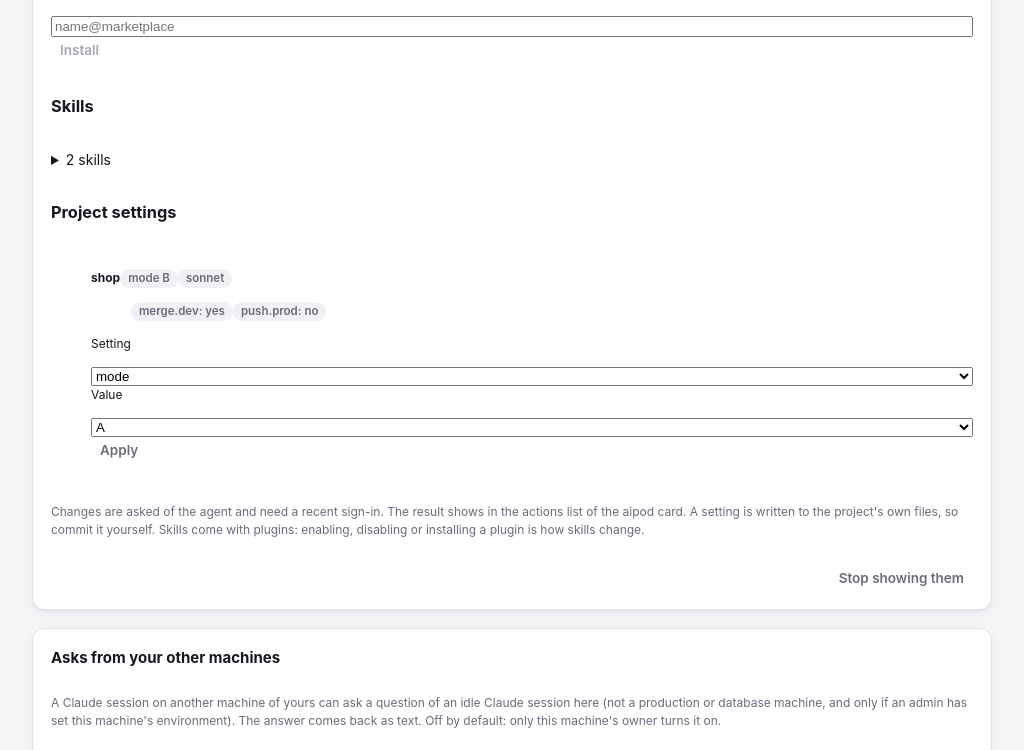
Test: the Claude inventory card on the machine page › asks for a project setting with the project, the name and a value from the lists
The width and height of the screenshot is (1024, 750).
(page scrolled)
Select "push.prod" in the dropdown labelled "Setting" at (532, 377), box [91, 367, 973, 386]
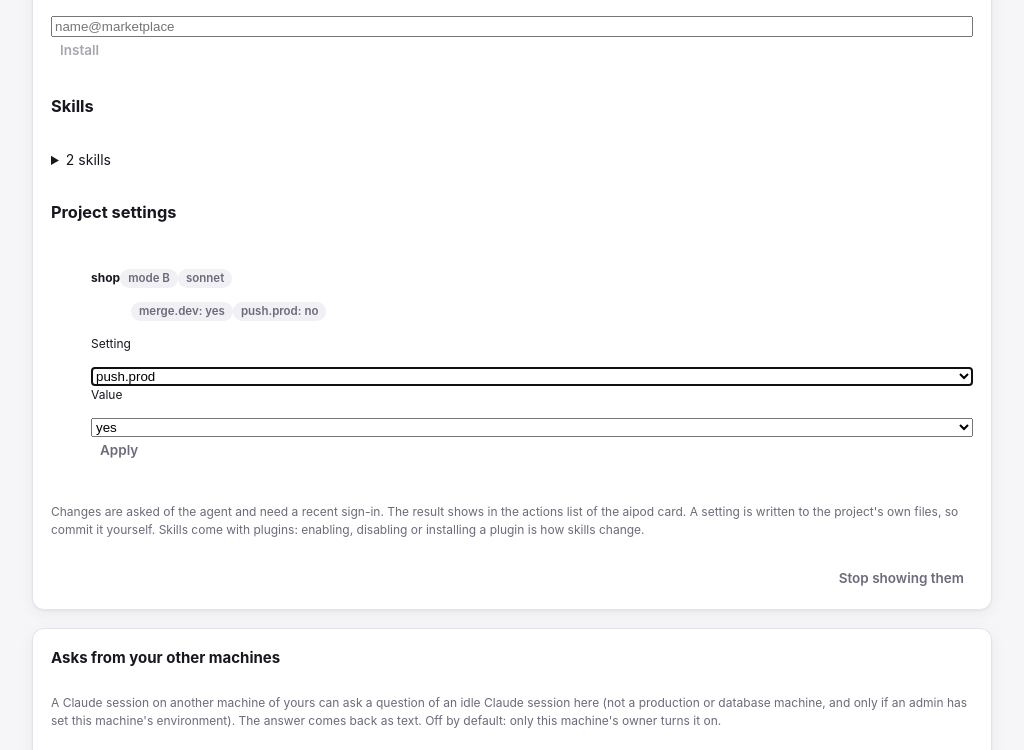
Select "no" in the dropdown labelled "Value" at (532, 428), box [91, 418, 973, 437]
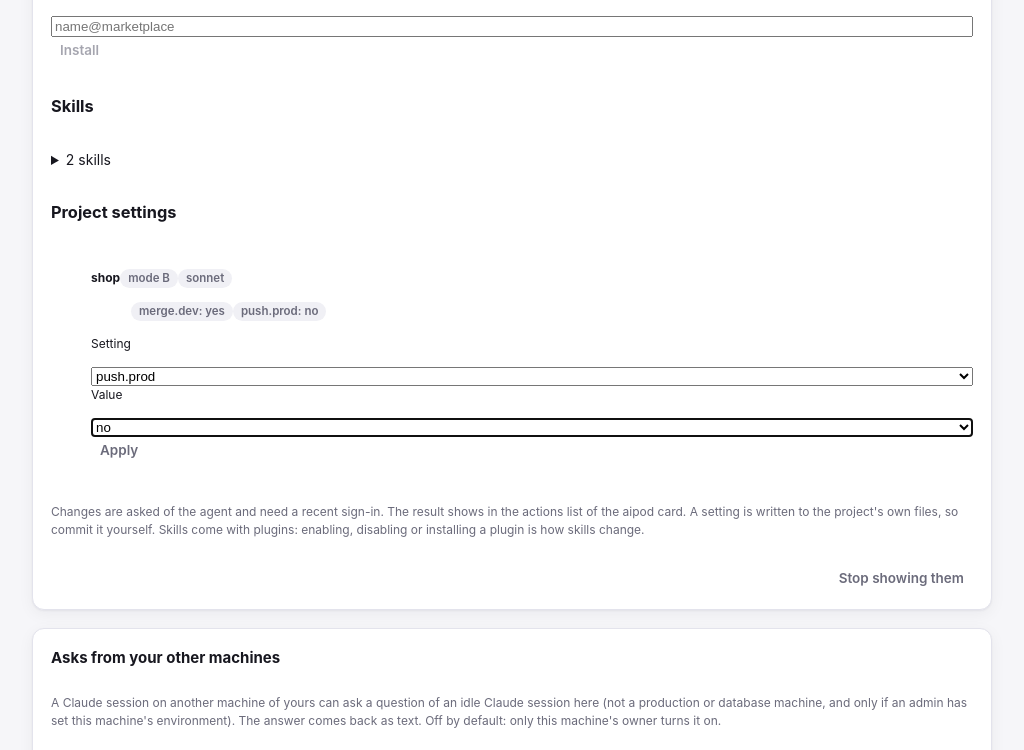
Click the button "Apply".
click(119, 450)  # box [91, 437, 147, 463]
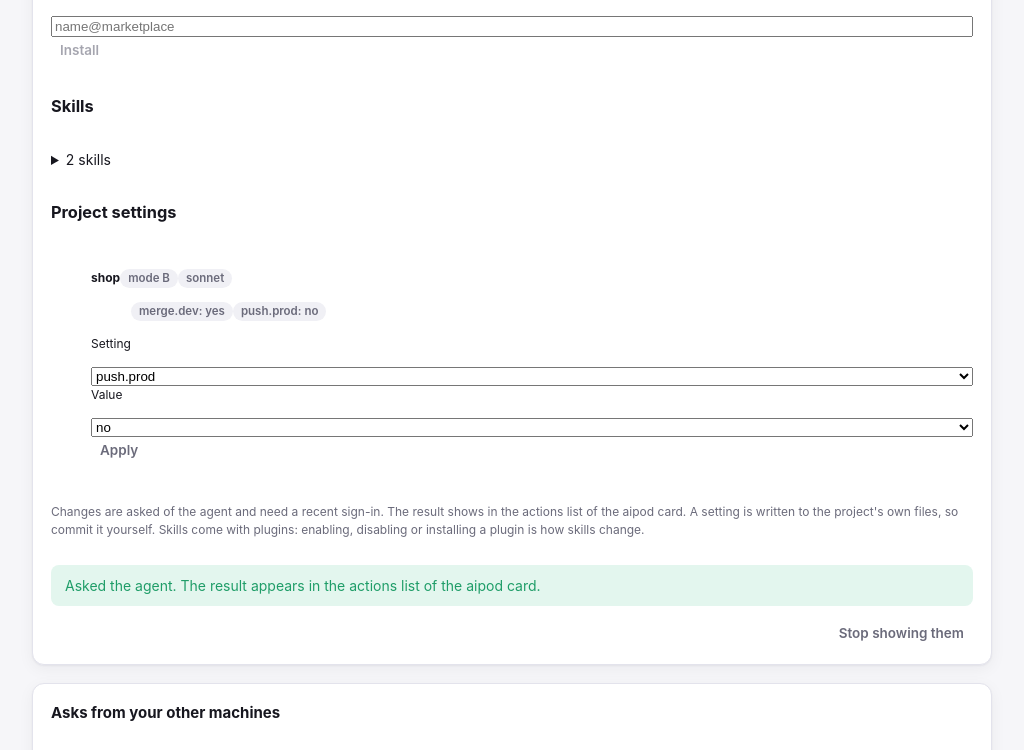
expect the text "Asked the agent. The result appears in the actions list of the aipod card." is shown: met, box [51, 565, 973, 606]
